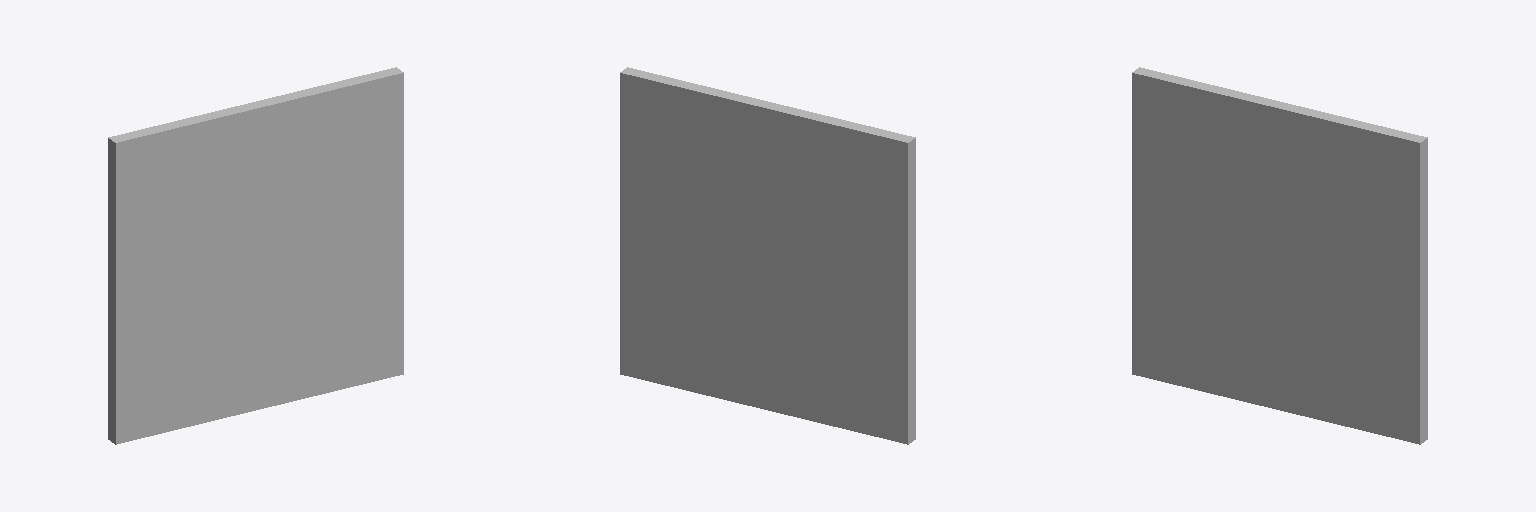
The model's file is door-wall.obj.
The picture shows the model from 3 angles: view 1: azimuth 30°, elevation 25°; view 2: azimuth 150°, elevation 25°; view 3: azimuth 330°, elevation 25°; orthographic projection.
Visible parts, largest first — view 1: Cube; view 2: Cube; view 3: Cube.
Part boxes in pixels (x1,y1,x2,y2): Cube: (108, 67, 403, 444); Cube: (620, 67, 915, 444); Cube: (1132, 67, 1427, 444).
Bounding box in the file's own units: 2.7 × 2.7 × 0.1218.